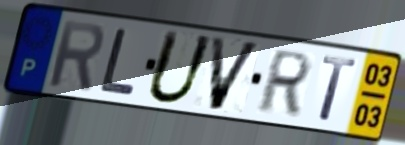L: (96, 26, 138, 98)
R: (47, 16, 107, 93), (253, 47, 315, 117)
T: (317, 55, 360, 125)
U: (143, 27, 217, 107)
V: (207, 34, 264, 113)
